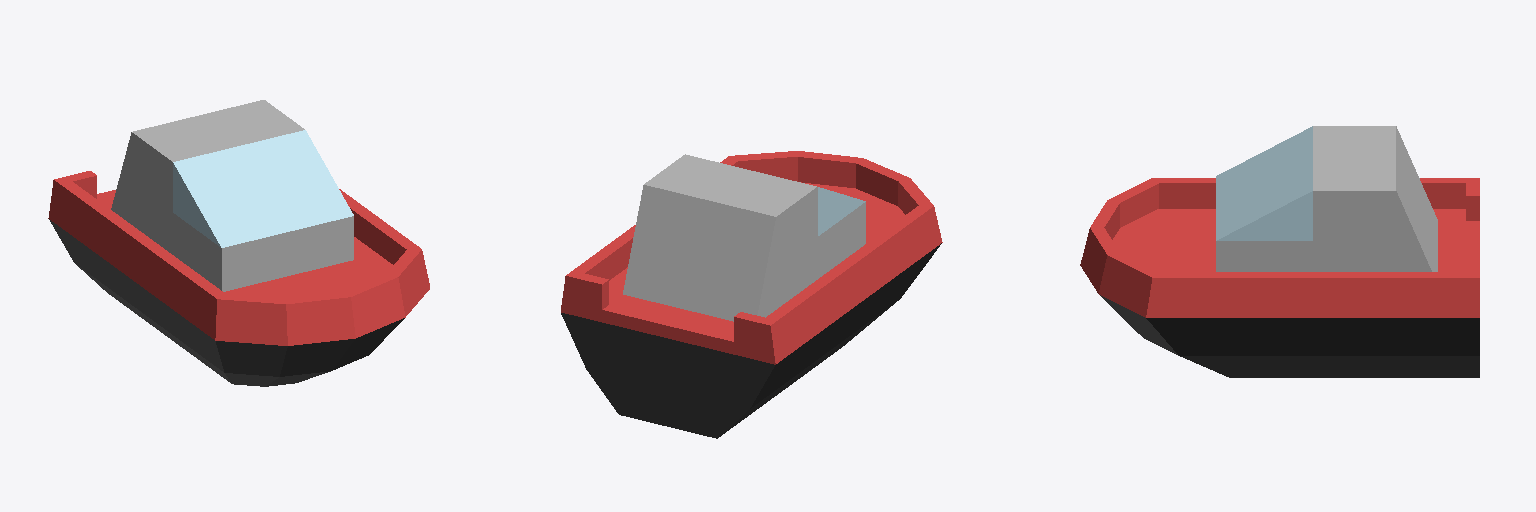
Rendered from watercraftPack_008.obj.
The picture shows the model from 3 angles: view 1: azimuth 30°, elevation 25°; view 2: azimuth 150°, elevation 25°; view 3: azimuth 270°, elevation 25°; orthographic projection.
Visible parts, largest first — view 1: Mesh1 Group1 Model; view 2: Mesh1 Group1 Model; view 3: Mesh1 Group1 Model.
Boxes of the visible parts, <box> form: Mesh1 Group1 Model: <box>48,100,429,386</box>; Mesh1 Group1 Model: <box>561,151,942,438</box>; Mesh1 Group1 Model: <box>1080,126,1479,377</box>.
Bounding box in the file's own units: 1.78 × 1.55 × 2.87.